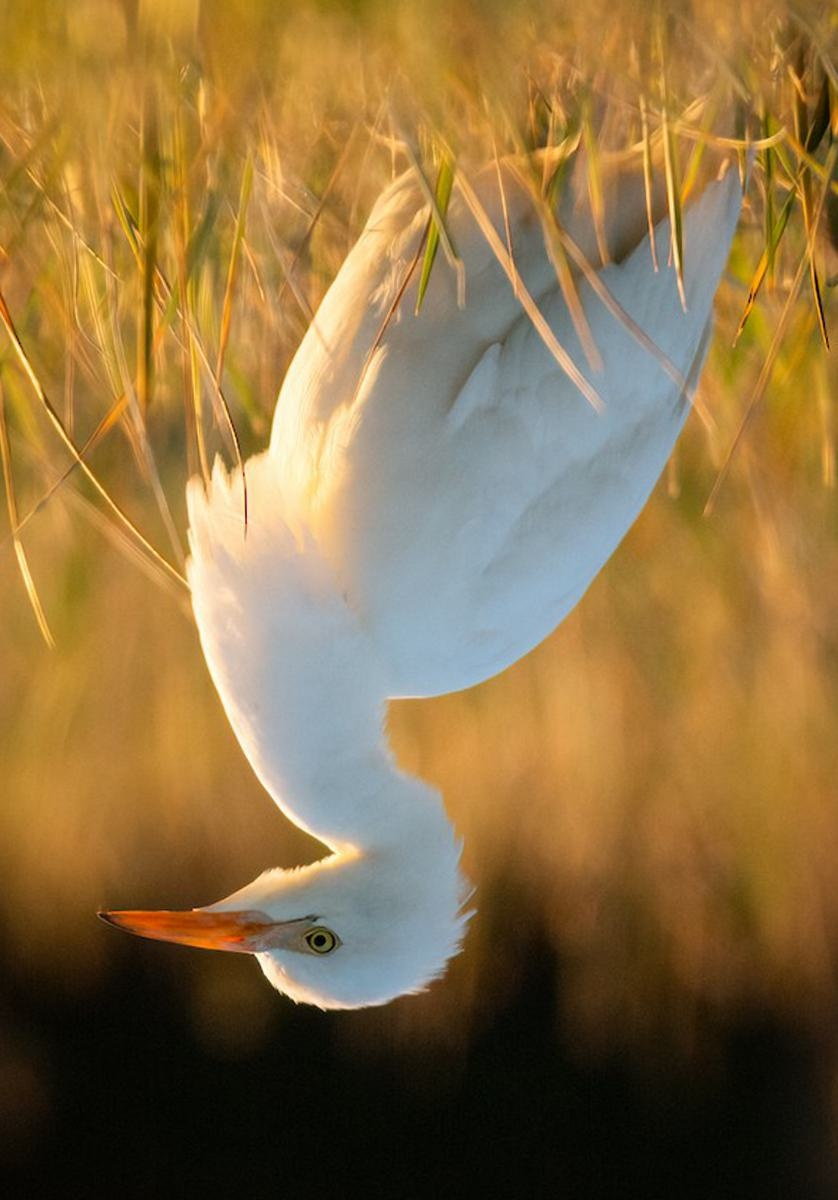egret: (109, 188, 702, 1024)
